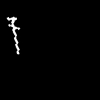double_crochet: (7, 17, 19, 53)
